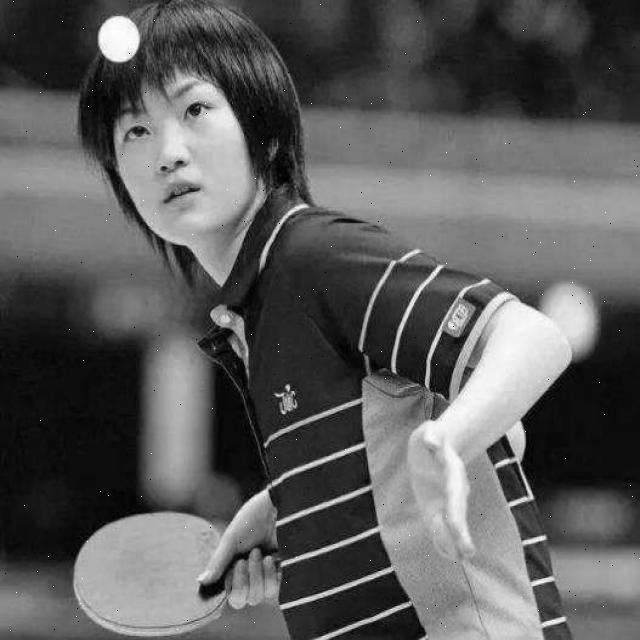ping-pong-ball: (94, 14, 142, 64)
